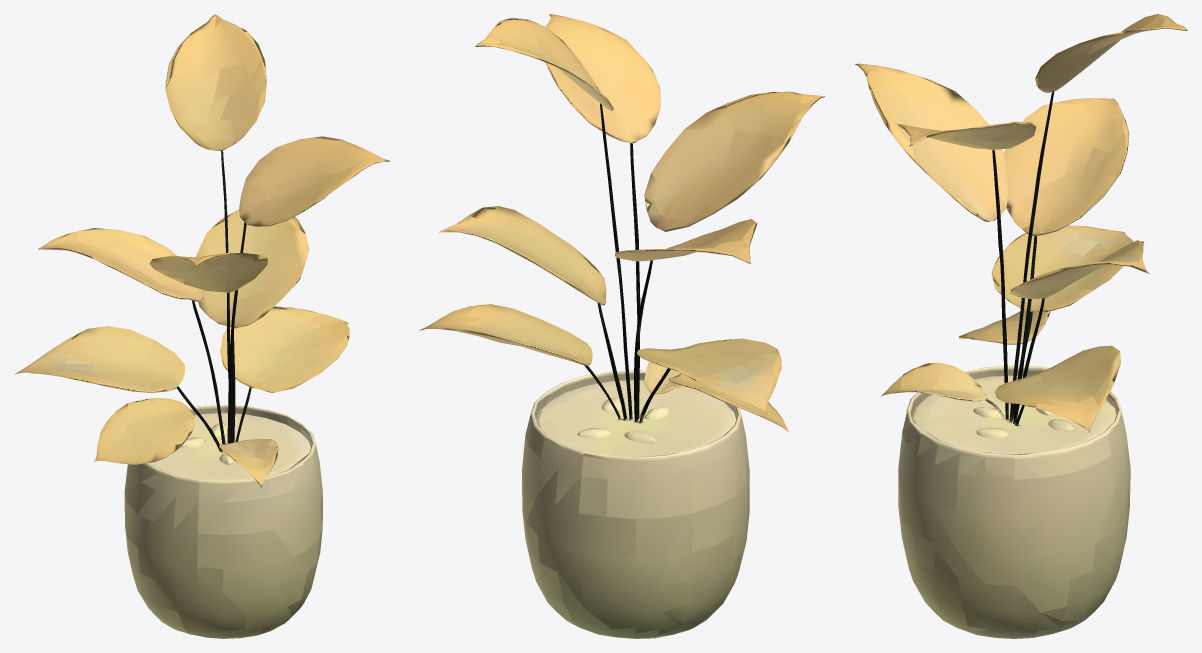
3 renders of one model, left to right at view 1: azimuth 30°, elevation 25°; view 2: azimuth 150°, elevation 25°; view 3: azimuth 270°, elevation 25°, orthographic. The views are drawn at different scales.
Bounding box in the file's own units: 0.6322 × 1 × 0.4894.
Materials: 1 (1 with a texture image).
